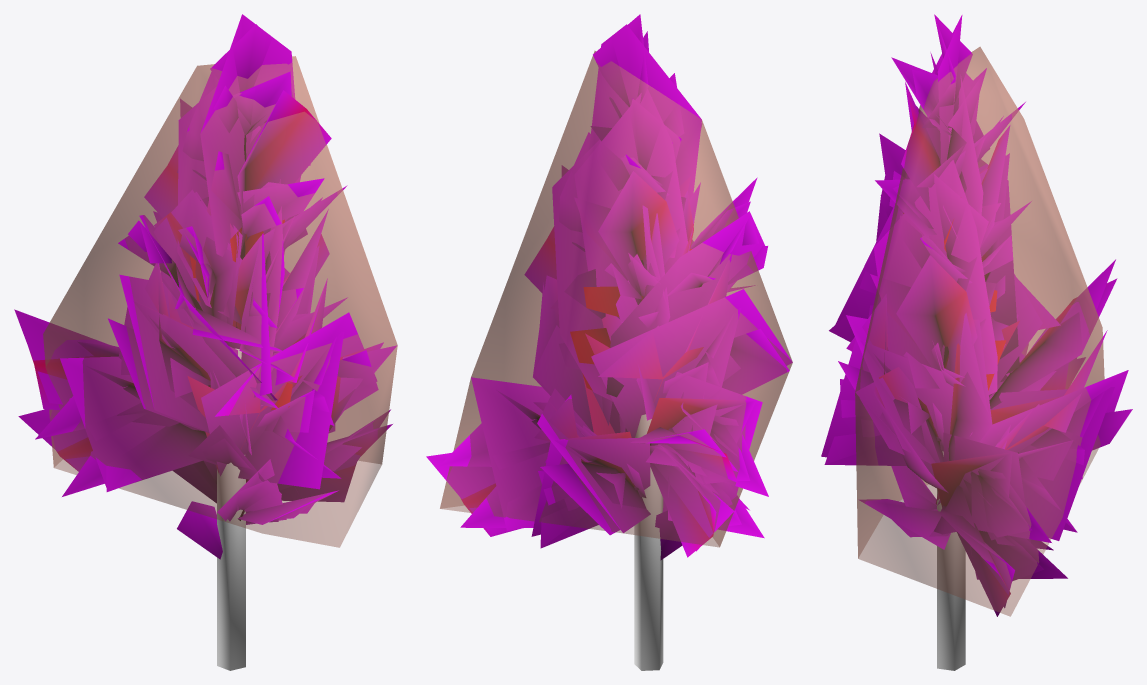
File: tree_aspen_small_a.dae
3 renders of one model, left to right at view 1: azimuth 30°, elevation 25°; view 2: azimuth 150°, elevation 25°; view 3: azimuth 270°, elevation 25°, orthographic. The views are drawn at different scales.
Visible parts, largest first — view 1: Colmesh_small01-1, Birch_Small_01_a300, Birch_Small_01_a700; view 2: Colmesh_small01-1, Birch_Small_01_a300, Birch_Small_01_a700; view 3: Colmesh_small01-1, Birch_Small_01_a300, Birch_Small_01_a700.
Part boxes in pixels (x1,y1,x2,y2): Colmesh_small01-1: (43,56,397,670); Birch_Small_01_a300: (14,14,397,557); Birch_Small_01_a700: (29,24,392,559); Colmesh_small01-1: (440,50,792,670); Birch_Small_01_a300: (426,24,792,557); Birch_Small_01_a700: (461,14,789,560); Colmesh_small01-1: (855,46,1104,670); Birch_Small_01_a300: (821,15,1128,607); Birch_Small_01_a700: (824,14,1132,616).
Size of the model in its own units: 3.49 by 2.62 by 6.11.
